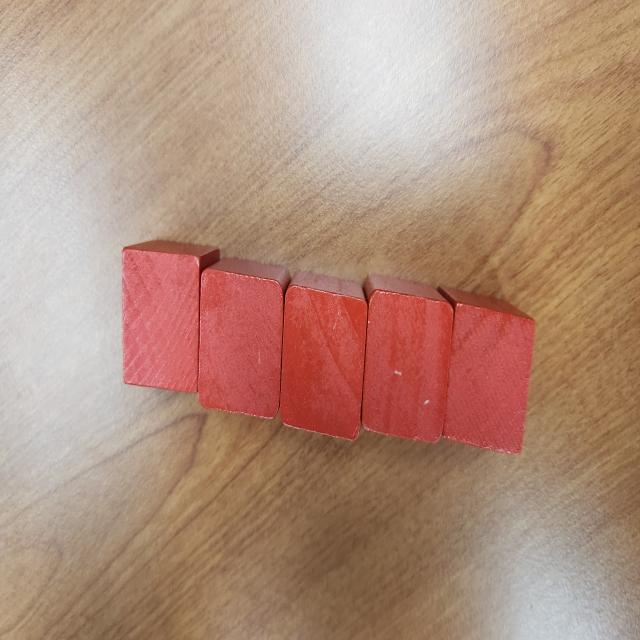red: (436, 284, 536, 456), (360, 273, 454, 446), (120, 238, 221, 396), (197, 258, 290, 417), (279, 278, 368, 444)
